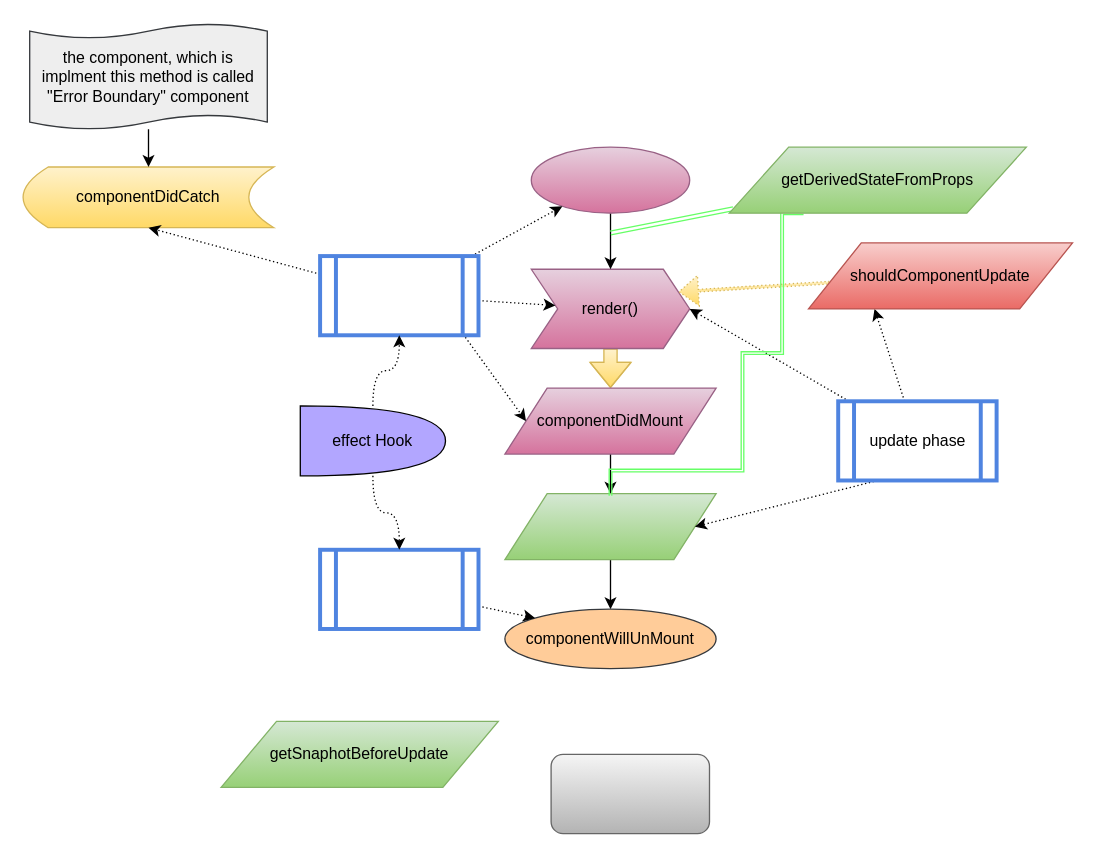
Image size: 1096x857. Some labels were removed from this diagram. The shapes that lost their labels are listed below. From the top down, each one's box as (x1, y1, x2, y2) in pixels, then its label:
(530, 146, 690, 213): constructor
(317, 253, 480, 337): mount phase
(504, 492, 716, 560): componentDidUpdate
(317, 547, 480, 630): Unmount phase
(550, 753, 710, 834): ForceUpdate() for external update
